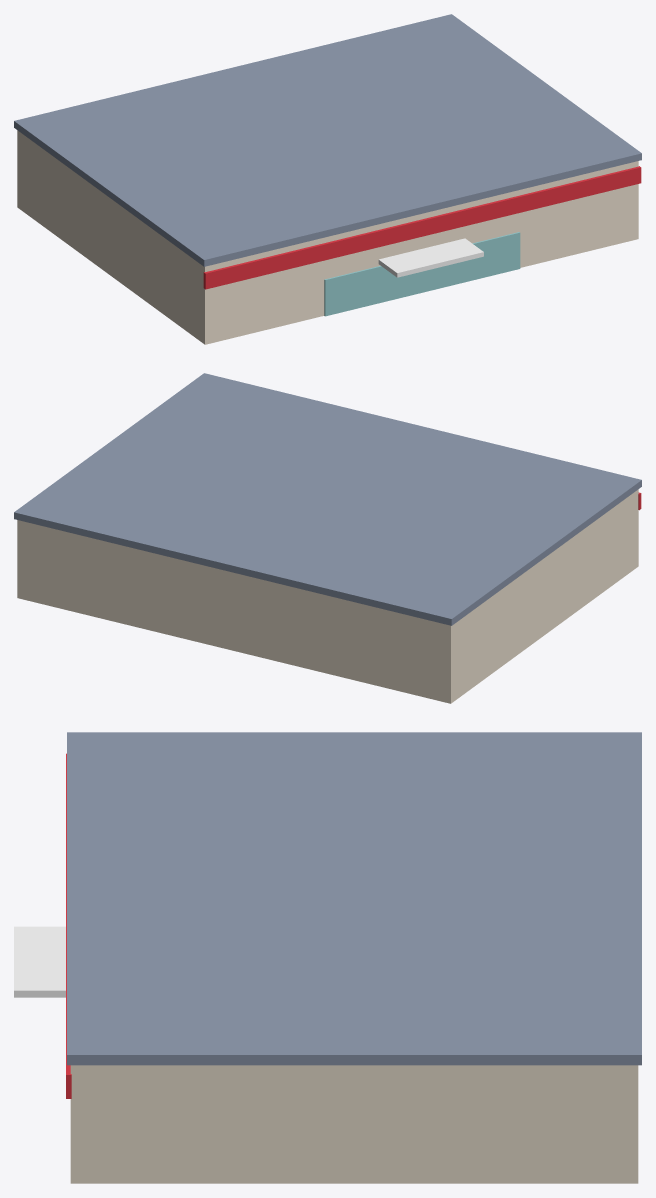
The model's file is supermarket.glb.
3 views of the same model, one above another, from view 1: azimuth 30°, elevation 25°; view 2: azimuth 150°, elevation 25°; view 3: azimuth 270°, elevation 25° (orthographic). The views are drawn at different scales.
Parts seen in each view (by area): view 1: supermarket_metal, supermarket_wall_cream, supermarket_red, supermarket_glass, supermarket_white; view 2: supermarket_metal, supermarket_wall_cream; view 3: supermarket_metal, supermarket_wall_cream, supermarket_white.
Part boxes in pixels (x1,y1,x2,y2): supermarket_metal: (14, 14, 641, 266); supermarket_wall_cream: (17, 130, 638, 344); supermarket_red: (203, 166, 641, 289); supermarket_glass: (324, 232, 520, 316); supermarket_white: (378, 238, 483, 277); supermarket_metal: (14, 373, 641, 625); supermarket_wall_cream: (17, 489, 638, 703); supermarket_metal: (67, 732, 641, 1065); supermarket_wall_cream: (70, 1065, 638, 1183); supermarket_white: (14, 926, 65, 997).
Bounding box in the file's own units: 40.4 × 7.6 × 33.2.
